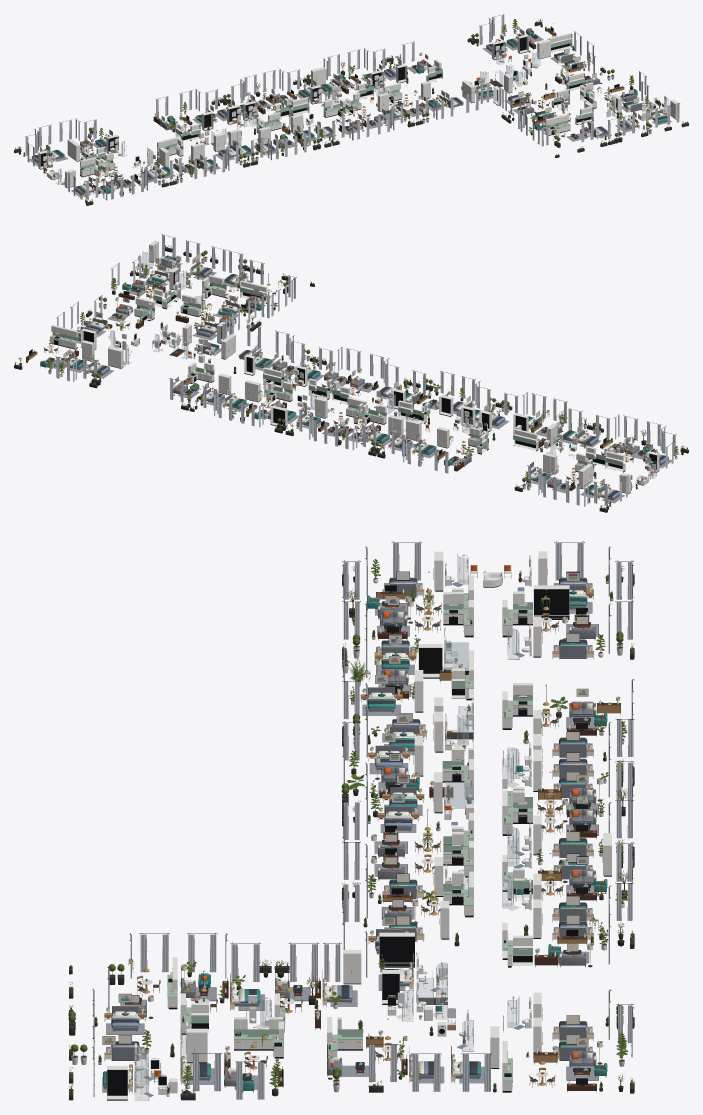
The picture shows the model from 3 angles, top to bottom: view 1: azimuth 30°, elevation 25°; view 2: azimuth 150°, elevation 25°; view 3: azimuth 270°, elevation 25°; orthographic projection. The views are drawn at different scales.
Parts seen in each view (by area): view 1: in_L02_u9_furn_kitchen_run1__int_white_gloss, in_L02_u6_furn_kitchen_run1__int_white_gloss; view 2: in_L02_u6_furn_kitchen_run1__int_white_gloss, in_L02_u16_furn_kitchen_run1__int_white_gloss, in_L02_u15_furn_kitchen_run1__int_white_gloss; view 3: in_L02_u12_furn_wardrobe2__int_white_gloss, in_L02_u20_furn_wardrobe1__int_white_gloss, in_L02_u8_furn_kitchen_run1__int_white_gloss.
Boxes of the visible parts, box(x1,y1,x2,y2) form: in_L02_u9_furn_kitchen_run1__int_white_gloss: box(545, 114, 570, 135); in_L02_u6_furn_kitchen_run1__int_white_gloss: box(548, 33, 572, 52); in_L02_u6_furn_kitchen_run1__int_white_gloss: box(50, 325, 78, 349); in_L02_u16_furn_kitchen_run1__int_white_gloss: box(513, 428, 538, 451); in_L02_u15_furn_kitchen_run1__int_white_gloss: box(398, 400, 426, 423); in_L02_u12_furn_wardrobe2__int_white_gloss: box(379, 932, 414, 967); in_L02_u20_furn_wardrobe1__int_white_gloss: box(533, 585, 569, 619); in_L02_u8_furn_kitchen_run1__int_white_gloss: box(234, 1017, 283, 1050).
Size of the model in its own units: 82.62 by 3 by 37.95.
